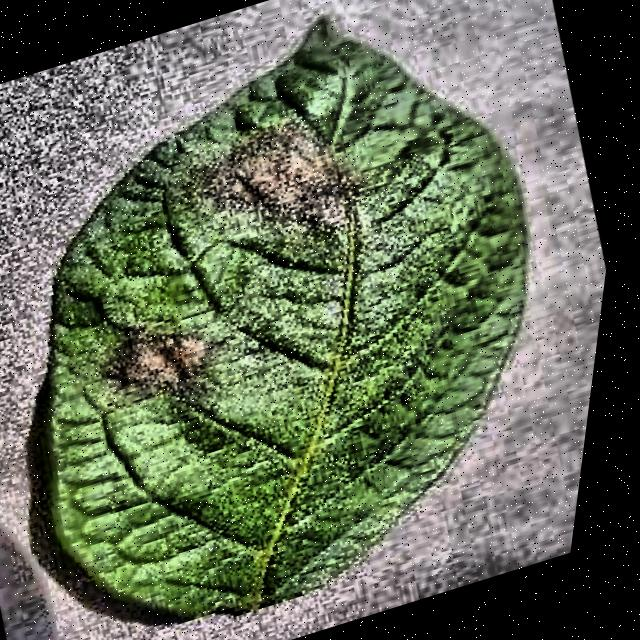Potato_leaf_late_blight: (42, 2, 551, 615)
